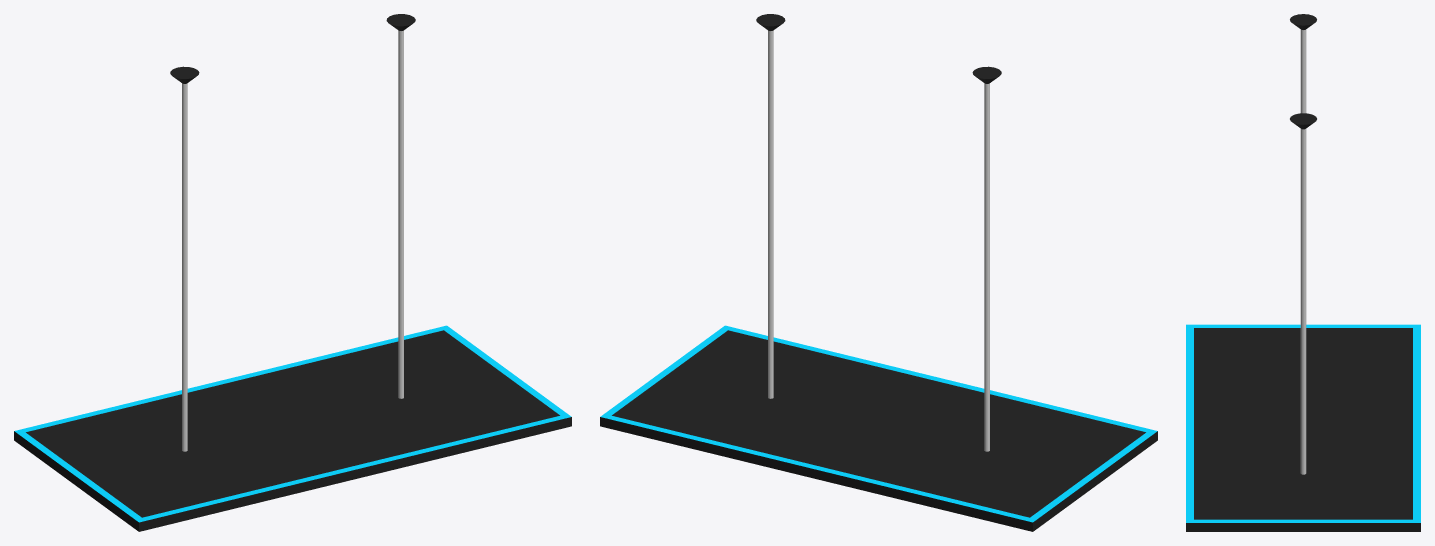
Rendered from Square_Double_Pole.glb.
The picture shows the model from 3 angles, left to right: view 1: azimuth 30°, elevation 25°; view 2: azimuth 150°, elevation 25°; view 3: azimuth 270°, elevation 25°; orthographic projection. The views are drawn at different scales.
Parts seen in each view (by area): view 1: Plane; view 2: Plane; view 3: Plane.
Boxes of the visible parts, x1,y1,x2,y2 form: Plane: (14,14,571,531); Plane: (600,14,1157,531); Plane: (1186,14,1420,531).
Size of what is drawn, in the model's own units: 3.66 by 3.12 by 1.83.
